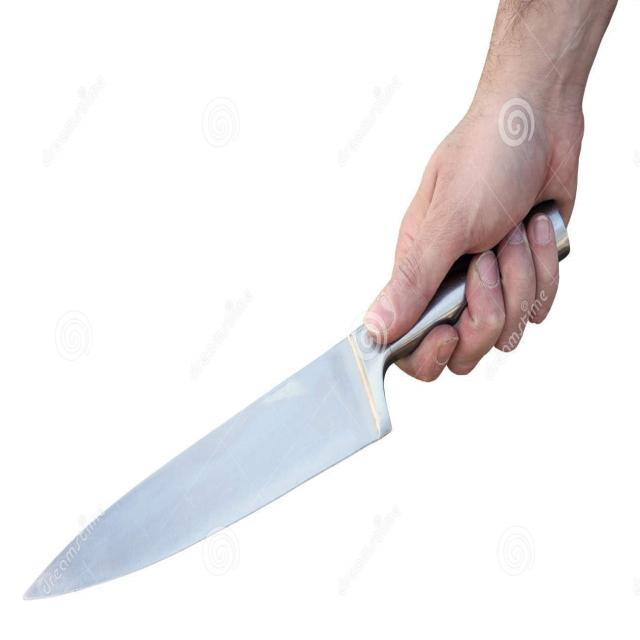knife: (24, 198, 572, 608)
